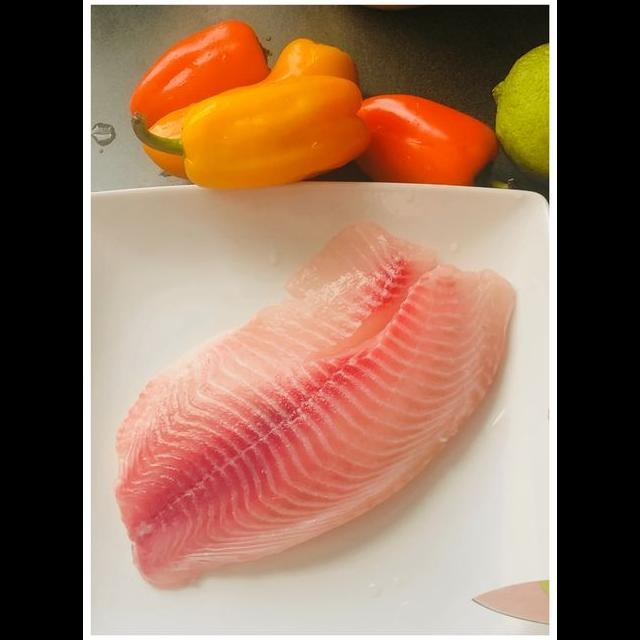fish: (103, 211, 528, 596)
